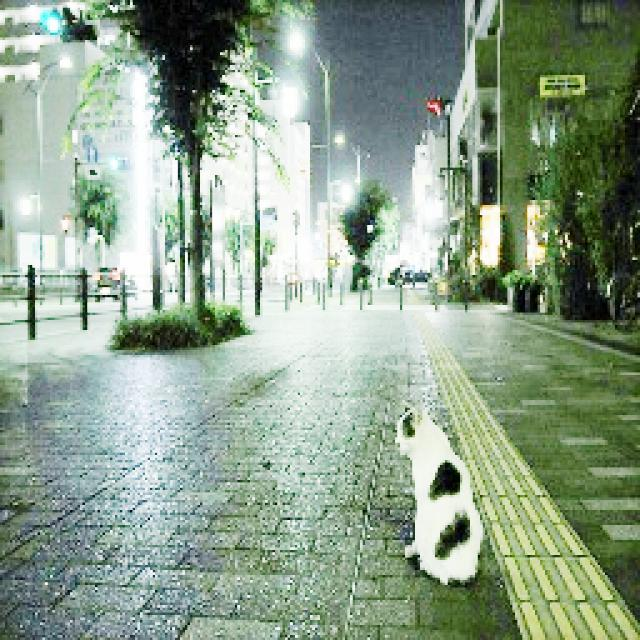cat: (389, 398, 489, 587)
